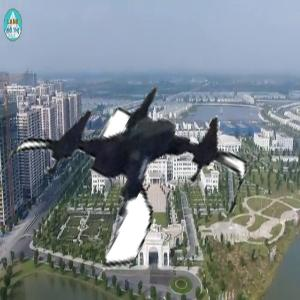drone: (19, 56, 244, 281)
